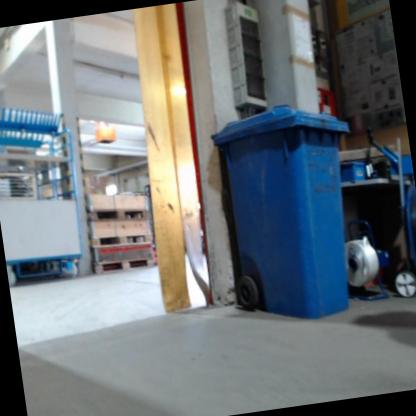pallet: (87, 200, 147, 228), (90, 227, 153, 252), (91, 253, 155, 276)
pallet_truck: (133, 177, 168, 269)
stillage: (0, 158, 40, 205)
